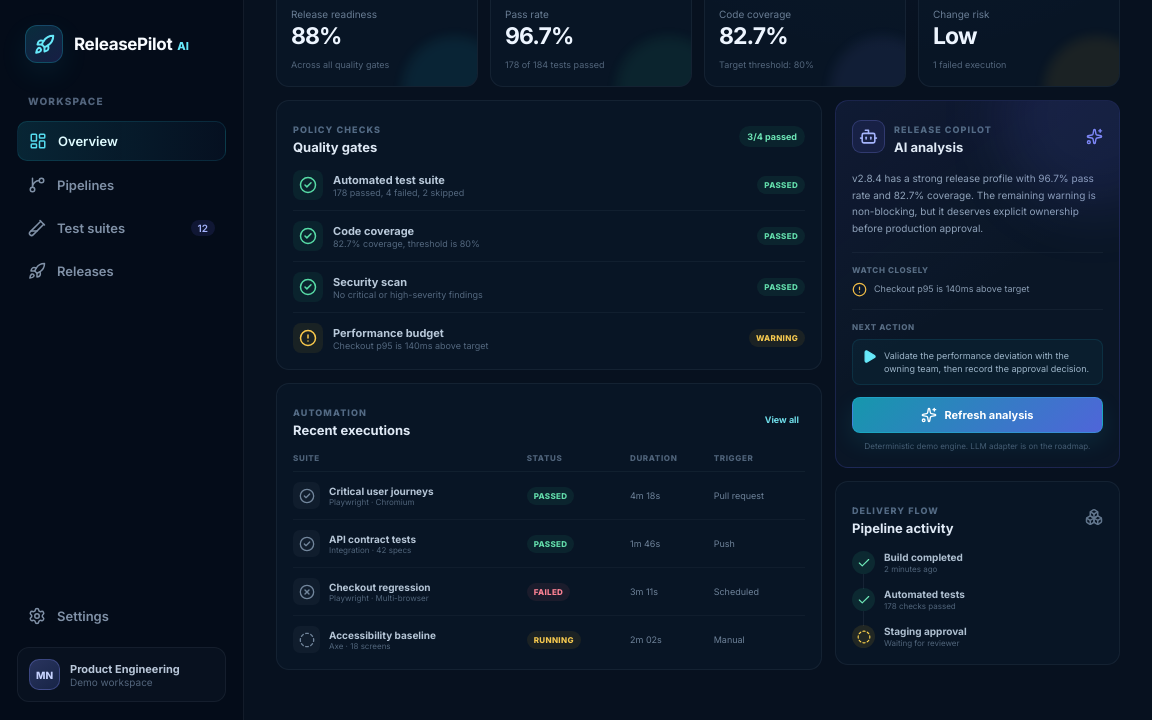
it: ReleasePilot dashboard › refreshes the local release analysis
This screenshot has width=1152, height=720.
(page scrolled)
Click the button "Refresh analysis".
click(978, 415)  # box [852, 397, 1103, 433]
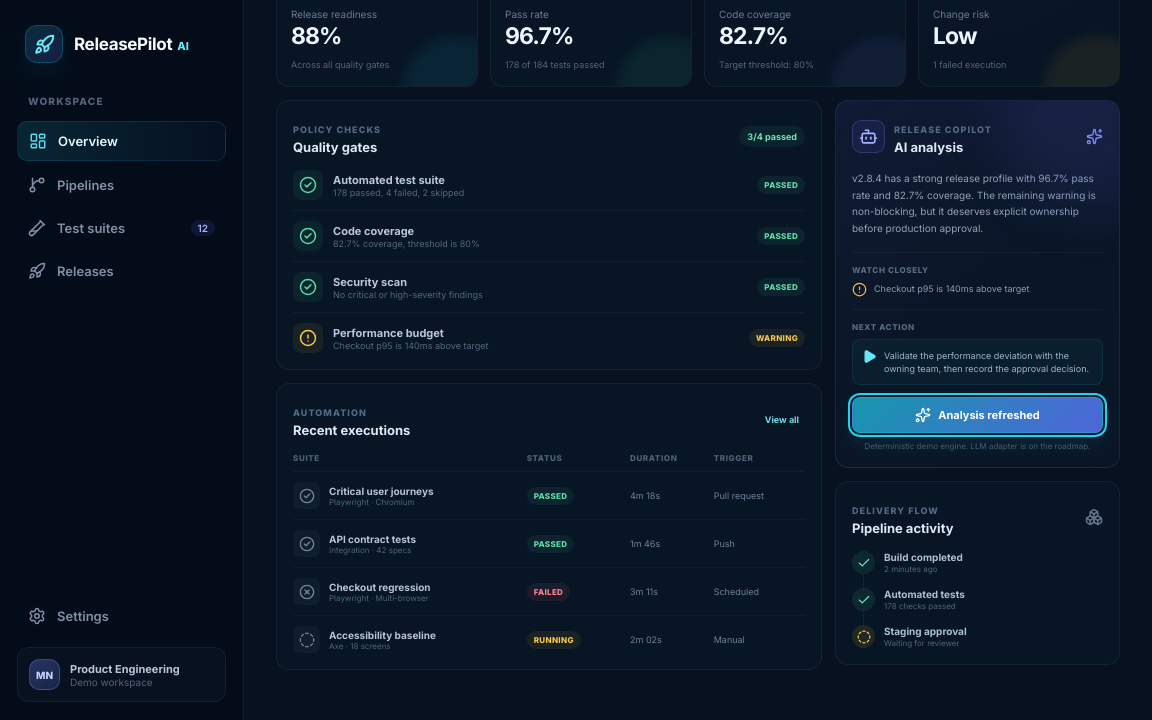
Expected: the button "Analysis refreshed" is shown, [852, 397, 1103, 433]
